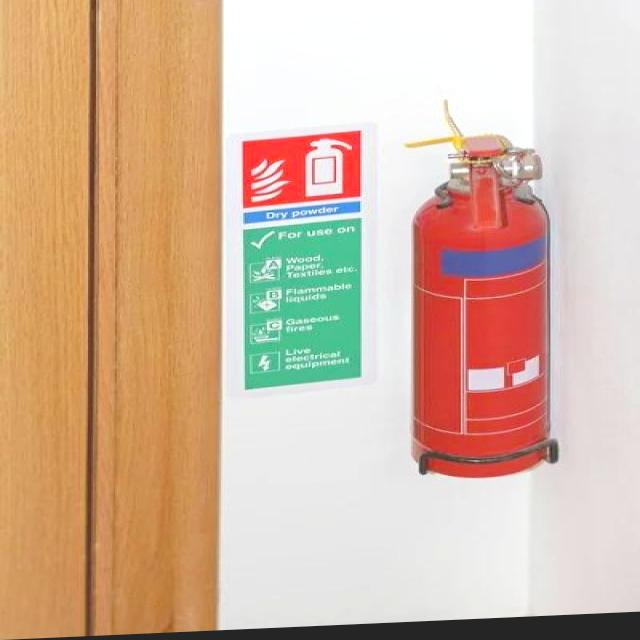FireExtinguisher: (400, 130, 566, 493)
